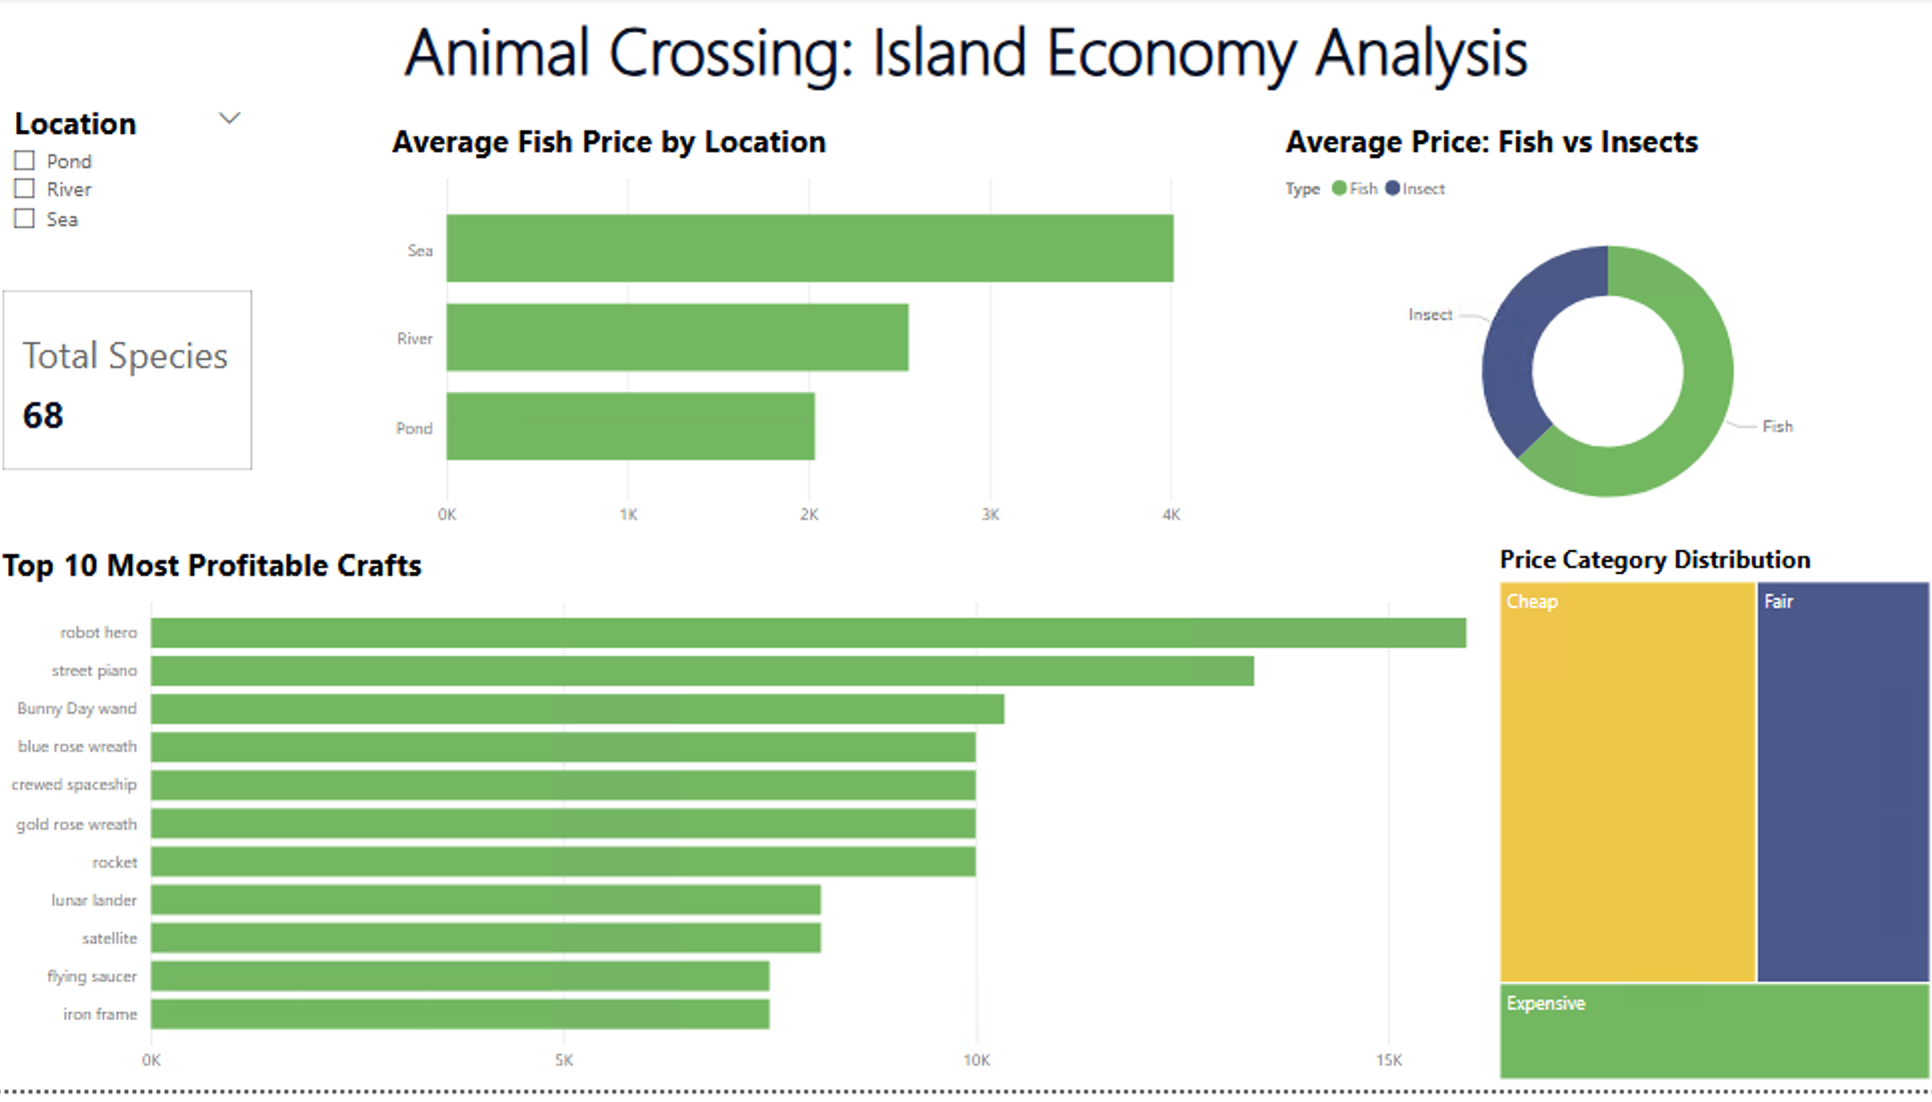

The dashboard page shown, as its layout file describes it:
{"tool":"powerbi","page":{"name":"Analysis v1","canvas":[1280,720],"ordinal":0},"visuals":[{"type":"clusteredBarChart","title":"Average Fish Price by Location","fields":{"Category":["fish_locations.location"],"Y":["Sum(fish_locations.avg_price)"]},"box":[256.8,80.3,588.6,279.2],"z":0},{"type":"cardVisual","fields":{"Data":["Sum(fish_locations.species_count)"]},"box":[0,188.3,175.1,129.1],"z":1000},{"type":"donutChart","title":"Average Price: Fish vs Insects","fields":{"Category":["fauna_comparison.type"],"Y":["Avg(fauna_comparison.avg_price)"]},"box":[845.4,80.3,434.6,279.2],"z":2000},{"type":"treemap","title":"Price Category Distribution","fields":{"Values":["Sum(fauna_comparison.expensive_count)","Sum(fauna_comparison.fair_count)","Sum(fauna_comparison.cheap_count)"]},"box":[986.3,359.3,293.7,359.3],"z":3000},{"type":"slicer","fields":{"Values":["fish_locations.location"]},"box":[0,63.3,175.5,125.4],"z":4000},{"type":"clusteredBarChart","title":"Top 10 Most Profitable Crafts","fields":{"Category":["crafting_margin.item_name"],"Y":["Sum(crafting_margin.estimated_profit)"]},"box":[0,359.3,986.3,359.3],"z":5000},{"type":"textbox","box":[0,0,1280,80.6],"z":6000}]}

Visuals, with their boxes in screenshot pixels (x1, y1, x2, y2), scaled from the page's 1280x720 canvas onto the 1932x1102 screenshot:
"Average Fish Price by Location" clusteredBarChart: bbox=(388, 123, 1276, 550)
cardVisual - Sum(fish_locations.species_count): bbox=(0, 288, 264, 486)
"Average Price: Fish vs Insects" donutChart: bbox=(1276, 123, 1931, 550)
"Price Category Distribution" treemap: bbox=(1489, 550, 1931, 1100)
slicer - fish_locations.location: bbox=(0, 97, 265, 289)
"Top 10 Most Profitable Crafts" clusteredBarChart: bbox=(0, 550, 1489, 1100)
textbox: bbox=(0, 0, 1931, 123)
